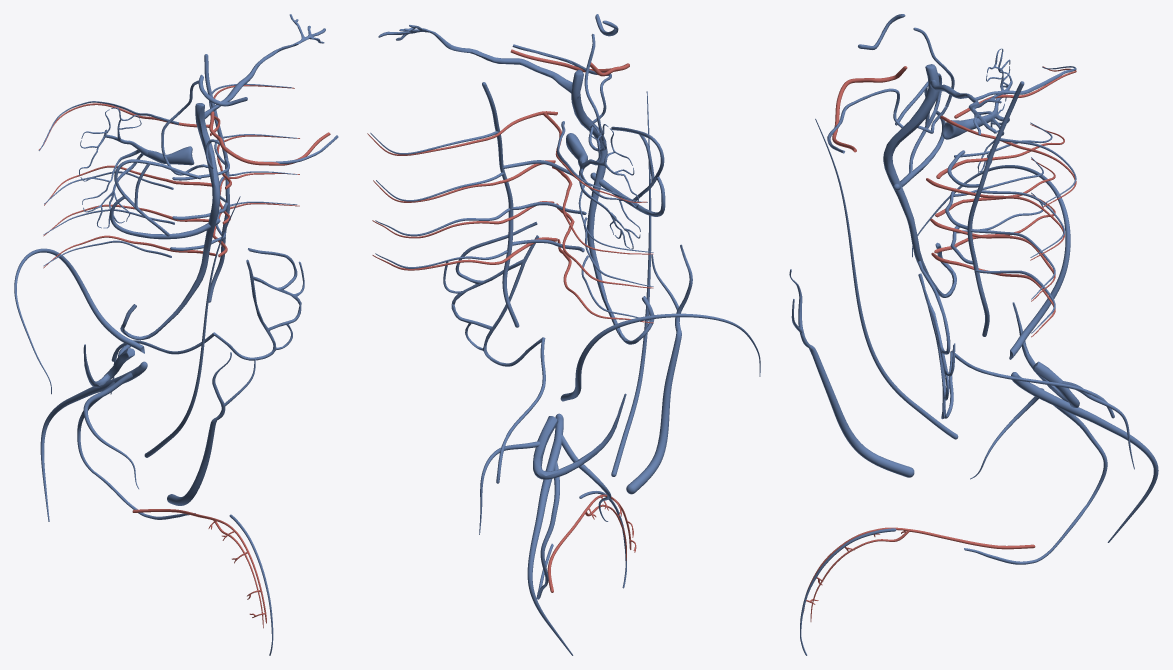
The model's file is other-40.glb.
3 views of the same model, side by side, from view 1: azimuth 30°, elevation 25°; view 2: azimuth 150°, elevation 25°; view 3: azimuth 270°, elevation 25° (orthographic). The views are drawn at different scales.
Visible parts, largest first — view 1: FJ3647, FJ3636, FJ3591, FJ3639, FJ3578, FJ3603, FJ3635, FJ3615, FJ3606, FJ3605, FJ3632, FJ3589 (+9 smaller); view 2: FJ3632, FJ3647, FJ3615, FJ3639, FJ3606, FJ3636, FJ3631, FJ3616, FJ3578, FJ3605, FJ3641, FJ3603 (+8 smaller); view 3: FJ3647, FJ3632, FJ3615, FJ3606, FJ3603, FJ3636, FJ3639, FJ3631, FJ3605, FJ3589, FJ3635, FJ3591 (+10 smaller).
Boxes of the visible parts, x1,y1,x2,y2 form: FJ3647: [120, 103, 220, 340]; FJ3636: [39, 103, 215, 268]; FJ3591: [110, 159, 220, 239]; FJ3639: [214, 248, 304, 360]; FJ3578: [79, 107, 154, 228]; FJ3603: [14, 248, 144, 394]; FJ3635: [39, 101, 178, 266]; FJ3615: [167, 352, 255, 505]; FJ3606: [40, 361, 147, 521]; FJ3605: [144, 196, 240, 457]; FJ3632: [210, 85, 299, 257]; FJ3589: [204, 54, 229, 302]; FJ3632: [367, 111, 557, 270]; FJ3647: [571, 69, 654, 344]; FJ3615: [626, 244, 692, 494]; FJ3639: [443, 221, 541, 366]; FJ3606: [527, 413, 573, 655]; FJ3636: [543, 112, 653, 323]; FJ3631: [370, 131, 510, 268]; FJ3616: [533, 393, 626, 479]; FJ3578: [578, 124, 640, 249]; FJ3605: [611, 91, 651, 476]; FJ3641: [378, 25, 579, 98]; FJ3603: [560, 313, 760, 401]; FJ3647: [883, 64, 956, 297]; FJ3632: [926, 115, 1076, 337]; FJ3615: [789, 269, 914, 477]; FJ3606: [1011, 372, 1158, 542]; FJ3603: [912, 165, 1070, 359]; FJ3636: [934, 66, 1076, 253]; FJ3639: [917, 261, 955, 419]; FJ3631: [970, 138, 1076, 333]; FJ3605: [815, 118, 958, 439]; FJ3589: [967, 81, 1024, 336]; FJ3635: [953, 66, 1076, 233]; FJ3591: [893, 73, 945, 190].
Bounding box in the file's own units: 0.2284 × 0.3797 × 0.2023.
